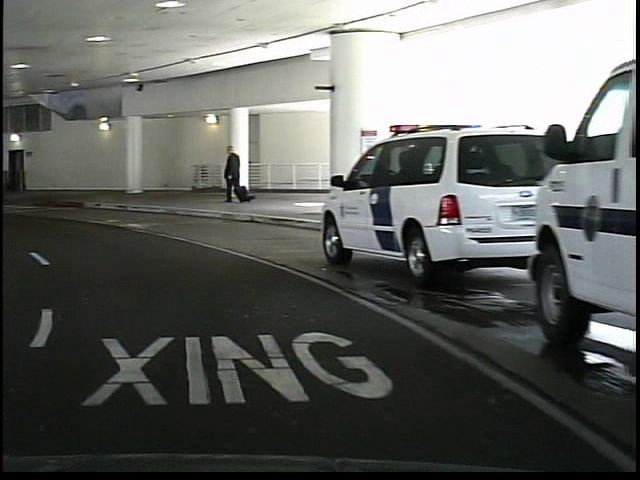person: (217, 141, 242, 203)
